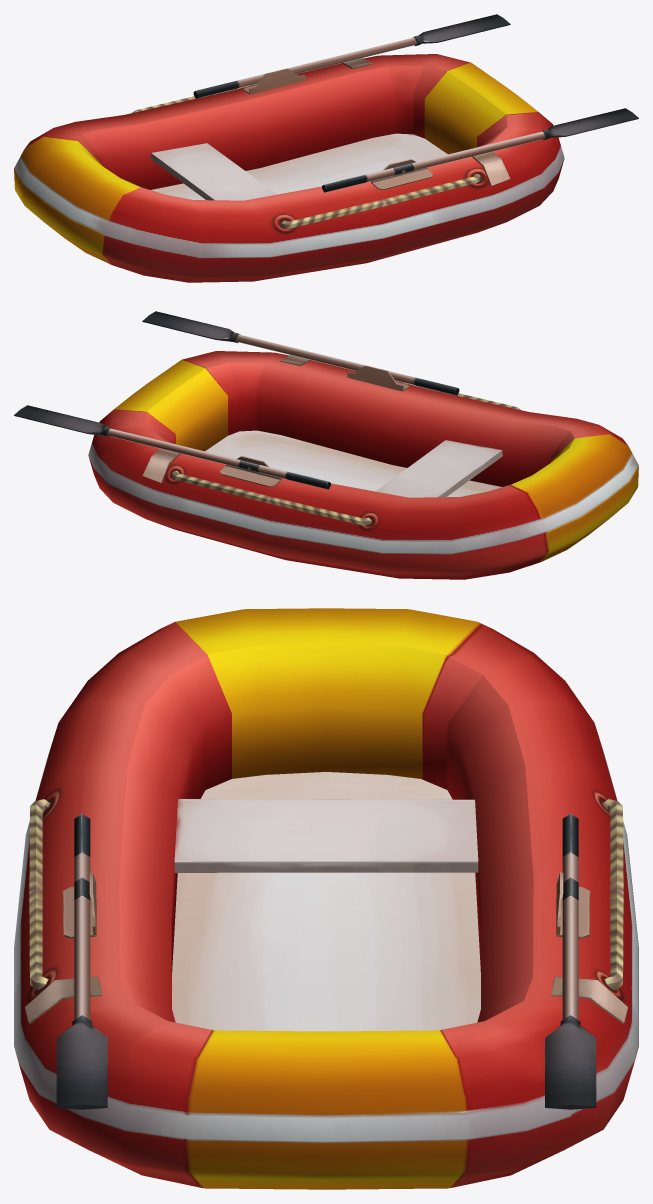
Rendered from jiushengting.fbx.
3 views of the same model, one above another, from view 1: azimuth 30°, elevation 25°; view 2: azimuth 150°, elevation 25°; view 3: azimuth 270°, elevation 25° (orthographic). The views are drawn at different scales.
Visible parts, largest first — view 1: jiushengting; view 2: jiushengting; view 3: jiushengting.
Boxes of the visible parts, x1=… form: jiushengting: x1=14, y1=14, x2=638, y2=282; jiushengting: x1=14, y1=311, x2=638, y2=579; jiushengting: x1=14, y1=608, x2=638, y2=1189.
Size of the model in its own units: 98.95 by 18.84 by 53.88.
